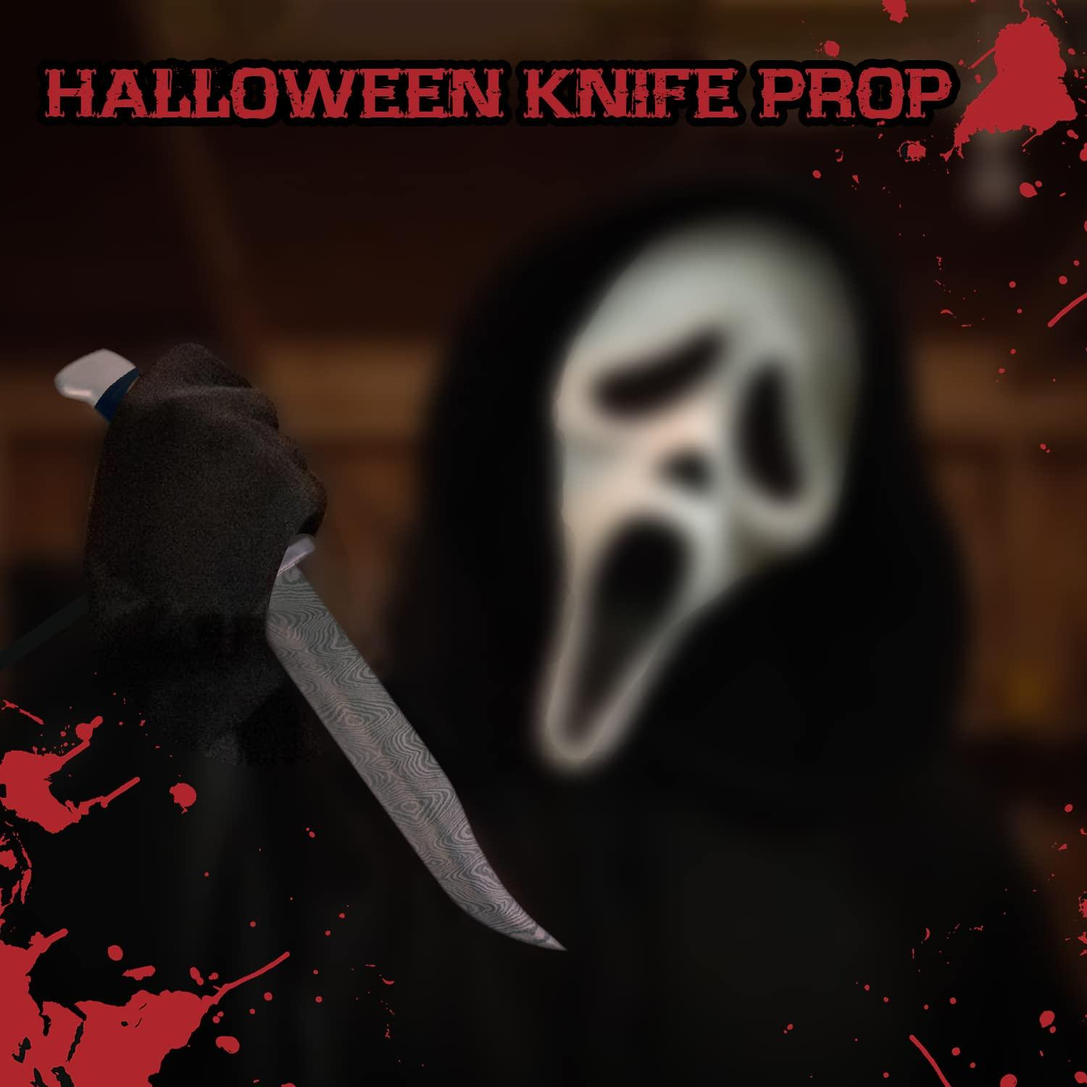Knife: (0, 203, 1087, 1087), (235, 546, 567, 954), (90, 351, 328, 684)
